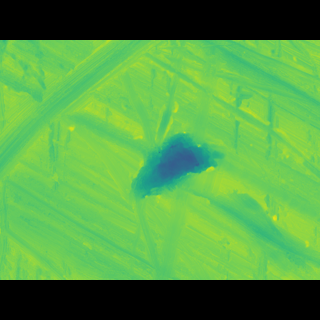Loch: (2, 68, 172, 177), (140, 79, 317, 136), (119, 136, 233, 194)
